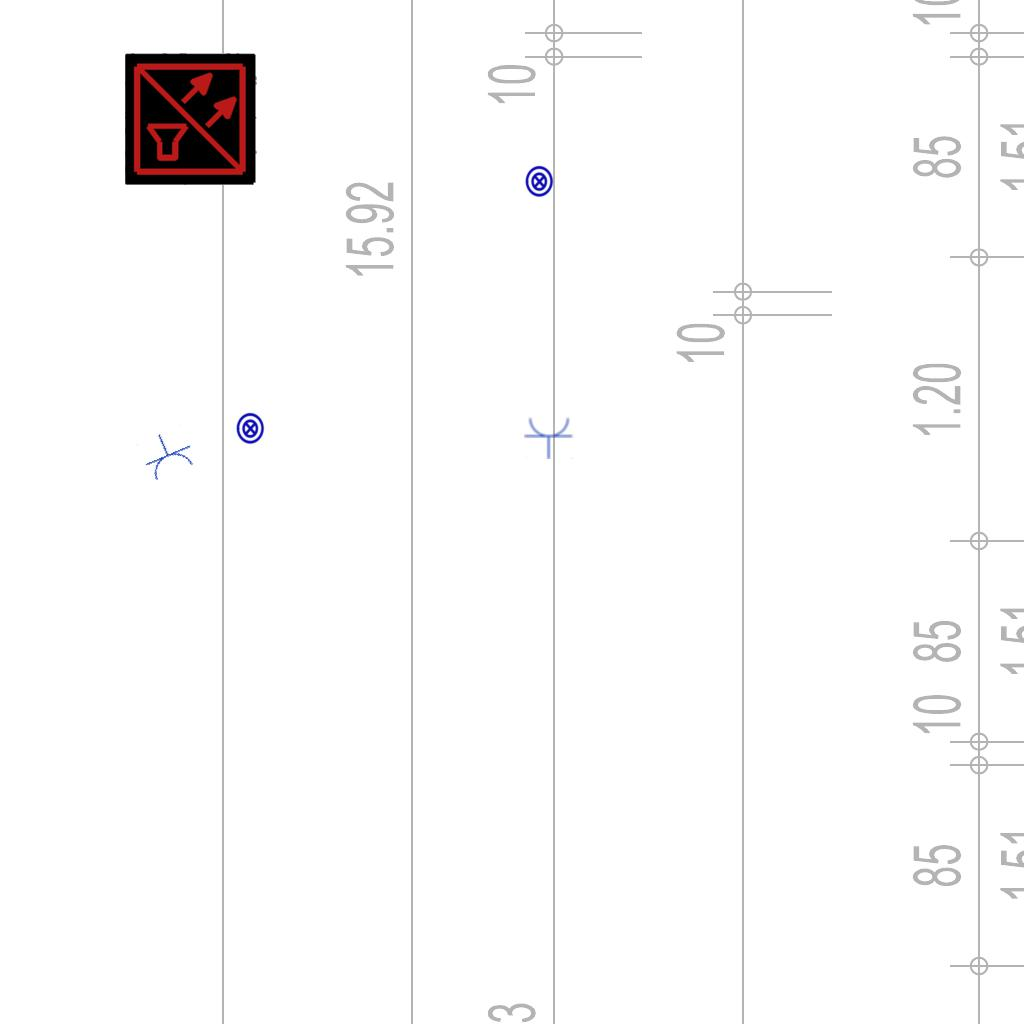OKW_Multisensormelder_(Kombination_optischer_Rauch-Kahlenmonoxid_Waerme-Melder): (125, 53, 257, 185)
Schukosteckdose_einfach: (135, 424, 199, 485), (524, 416, 574, 459)
Taster_beleuchtet: (234, 412, 267, 445), (523, 165, 556, 198)
